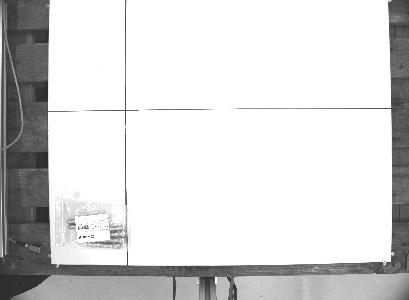t2: (52, 194, 136, 252)
